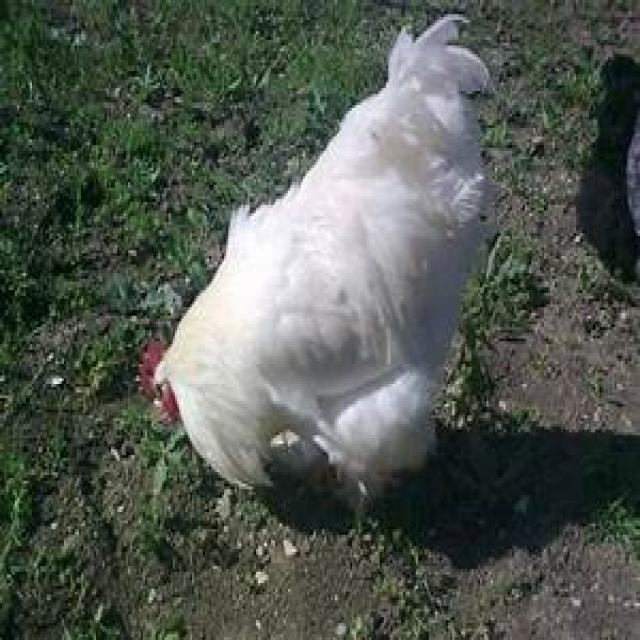animal: (147, 18, 487, 506)
